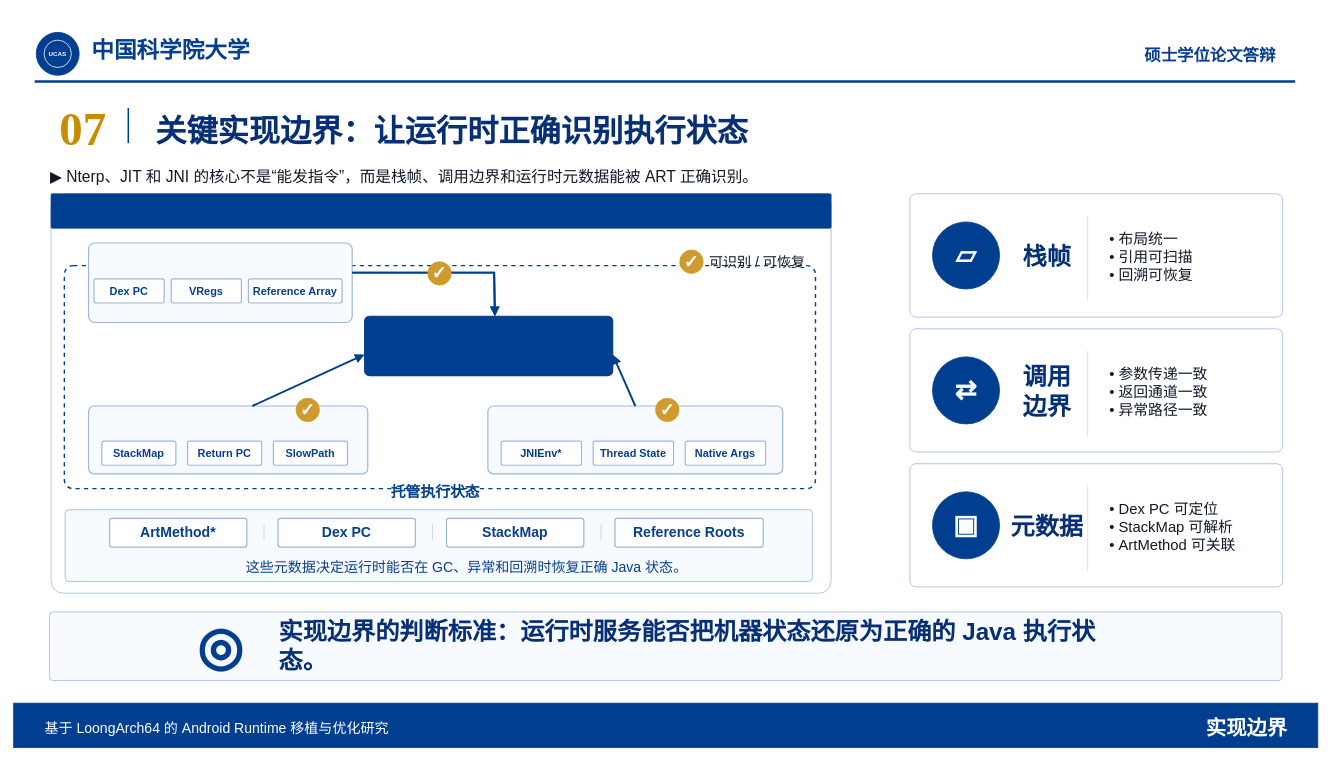
This 1331x761 diagram has some shape labels left out. Here are the shapes that lost their labels. From the top down, the box of each, then its label:
(50, 193, 831, 228): Nterp / JIT / JNI 与 ART 运行时的协同边界
(88, 242, 352, 323): Nterp 解释帧
(364, 315, 613, 376): ART Runtime GC / 异常 / 栈回溯 / 去优化
(88, 405, 368, 474): JIT 编译帧
(487, 405, 783, 474): JNI 过渡帧
